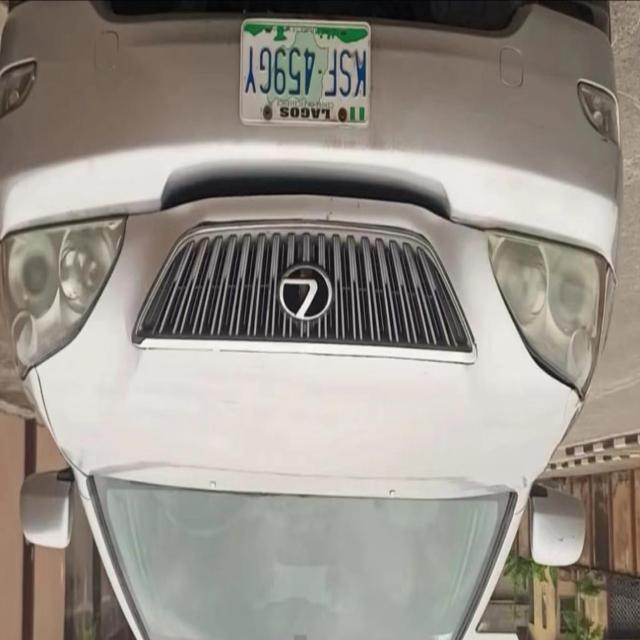Nigerian License Plate - vdataset benjamin-daria: (238, 16, 372, 126)
